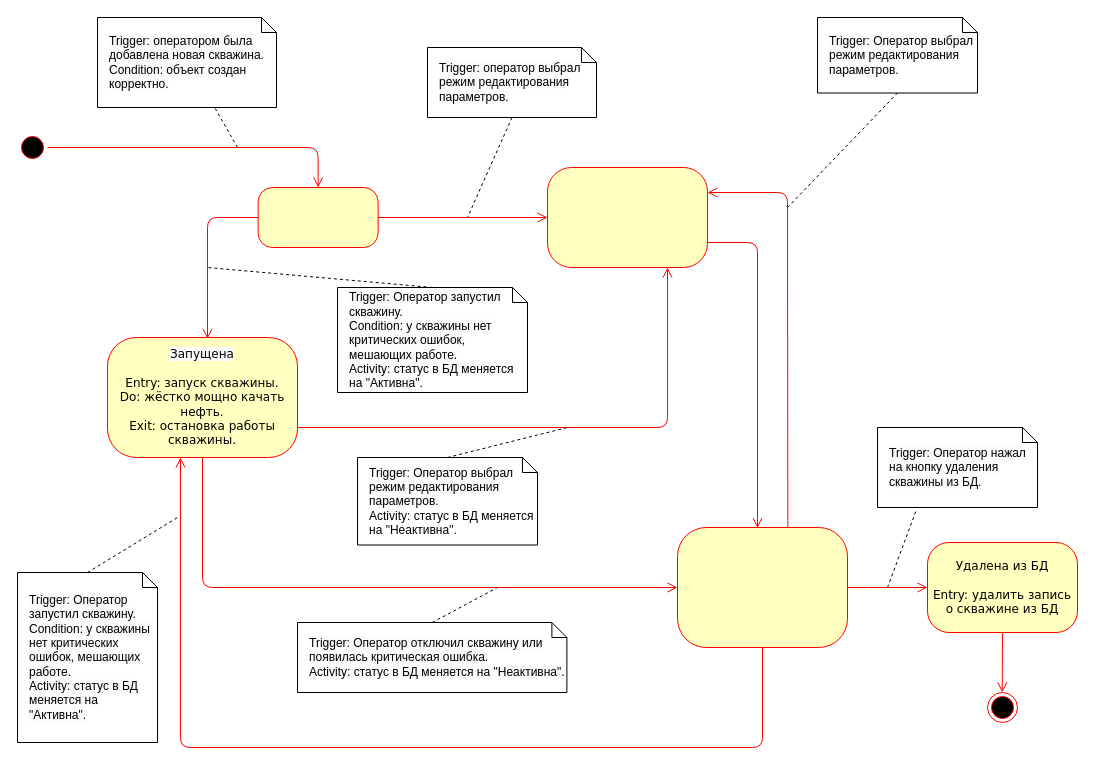
Image size: 1095x775. Some labels were removed from this diagram. Each missing label, with the centre of its shape:
"Выключена" goes at (762,587).
"Добавлена в БД Entry: создать запись в БД." goes at (317,217).
"Редактируется Exit: сохранение новых параметров в БД" goes at (627,217).
